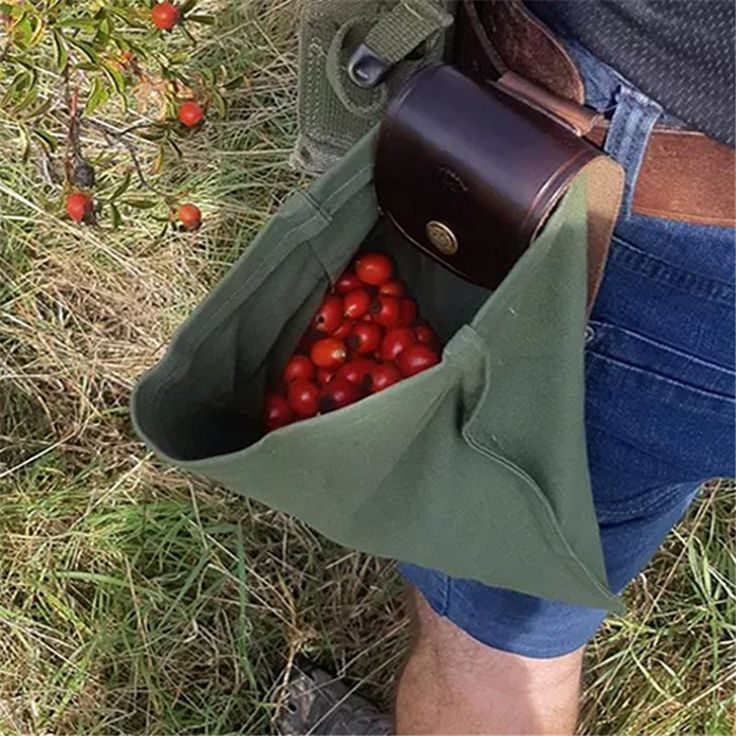cuero: (373, 3, 736, 291)
